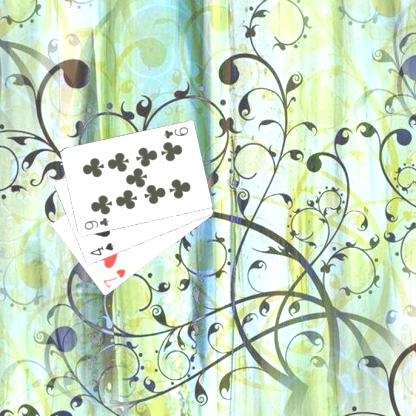4S: (87, 240, 115, 257)
7H: (100, 266, 127, 290)
9C: (82, 214, 110, 232), (161, 124, 190, 140)
